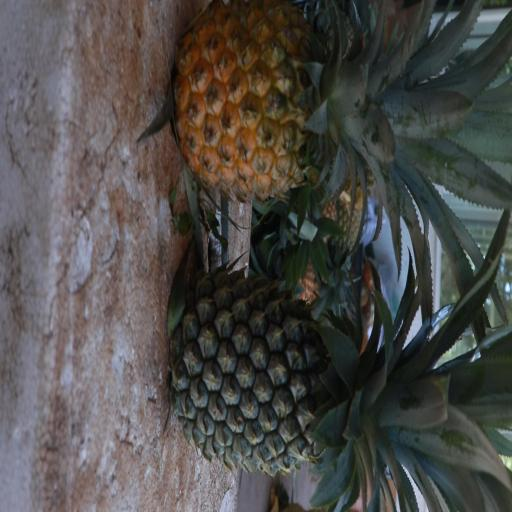Pineapple - v8 v1: (177, 0, 466, 199)
